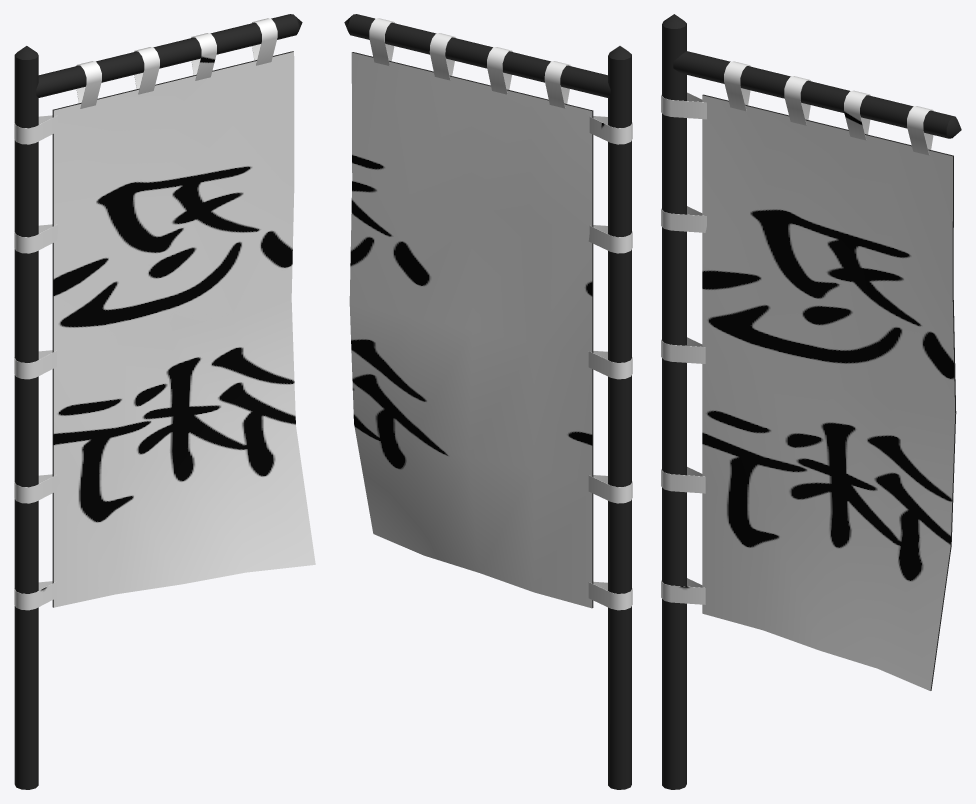
File: ninjabanner_basic.glb
The picture shows the model from 3 angles, left to right: view 1: azimuth 30°, elevation 25°; view 2: azimuth 150°, elevation 25°; view 3: azimuth 330°, elevation 25°; orthographic projection. The views are drawn at different scales.
Parts seen in each view (by area): view 1: secondary, 0.096; view 2: secondary, 0.096; view 3: secondary, 0.096.
Boxes of the visible parts, bbox=[...] form: secondary: bbox=[14, 18, 315, 610]; 0.096: bbox=[14, 14, 302, 789]; secondary: bbox=[349, 18, 632, 610]; 0.096: bbox=[344, 14, 631, 789]; secondary: bbox=[661, 61, 955, 690]; 0.096: bbox=[662, 14, 961, 789].
Size of the model in its own units: 0.4221 by 1.04 by 0.0707.
2 materials, 1 textured.
